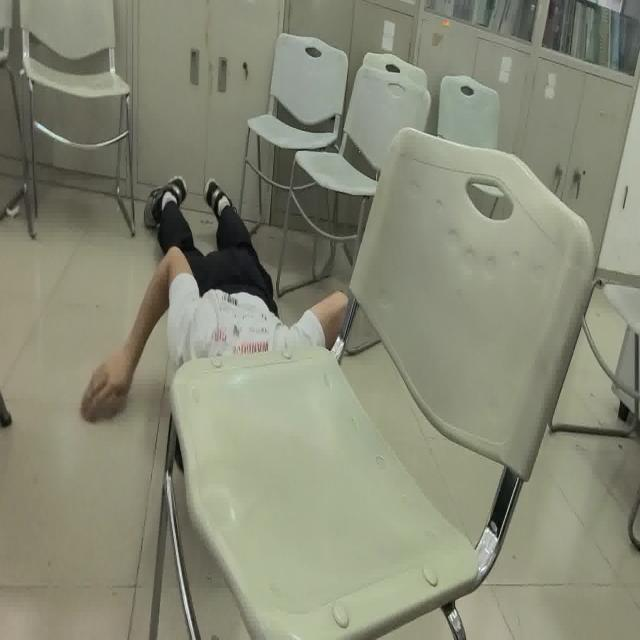fall: (76, 179, 347, 419)
